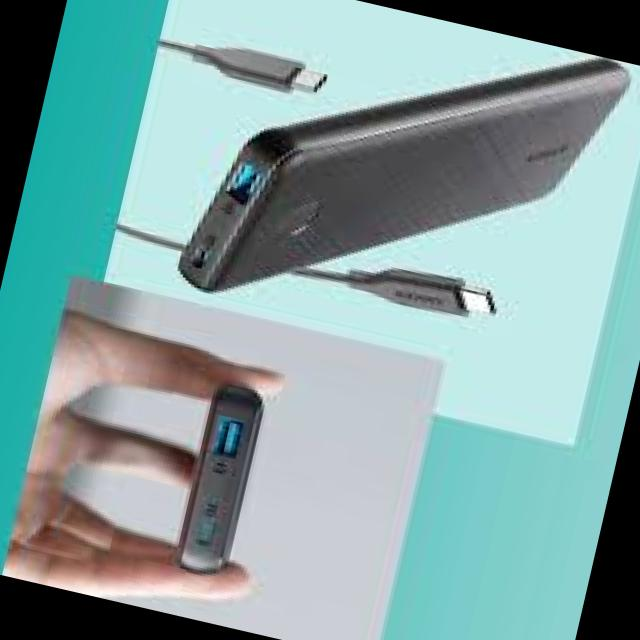portable-charger: (172, 0, 640, 375), (168, 376, 268, 584)
